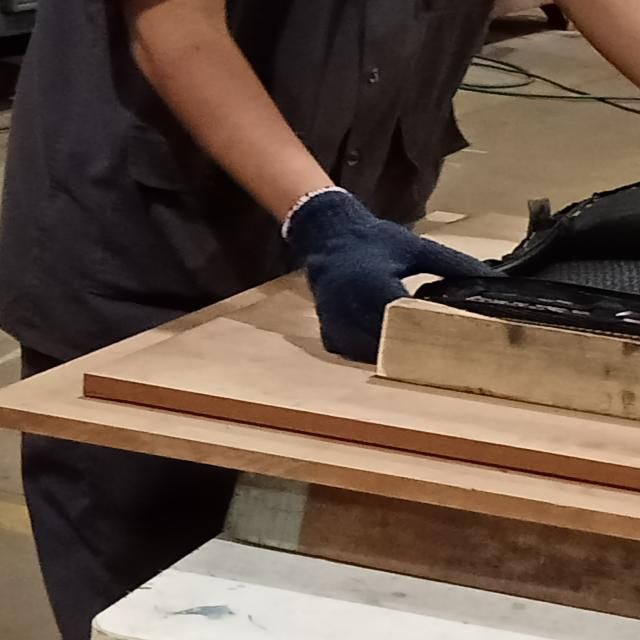Gloves-Detection: (271, 194, 463, 356)
